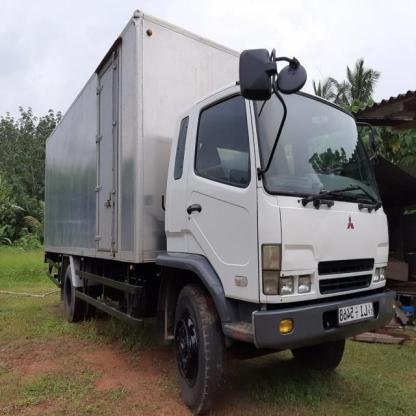truck: (43, 13, 404, 413)
